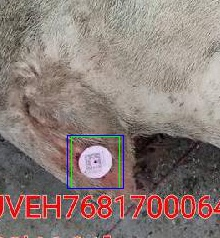text: (71, 136, 119, 188)
